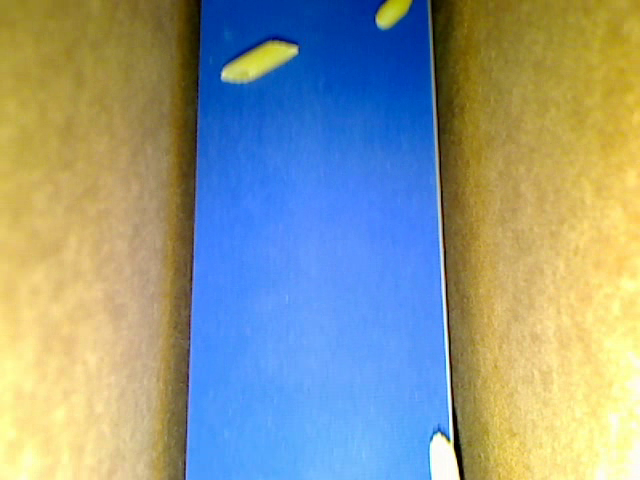penne: (219, 40, 299, 83), (430, 432, 461, 479)
